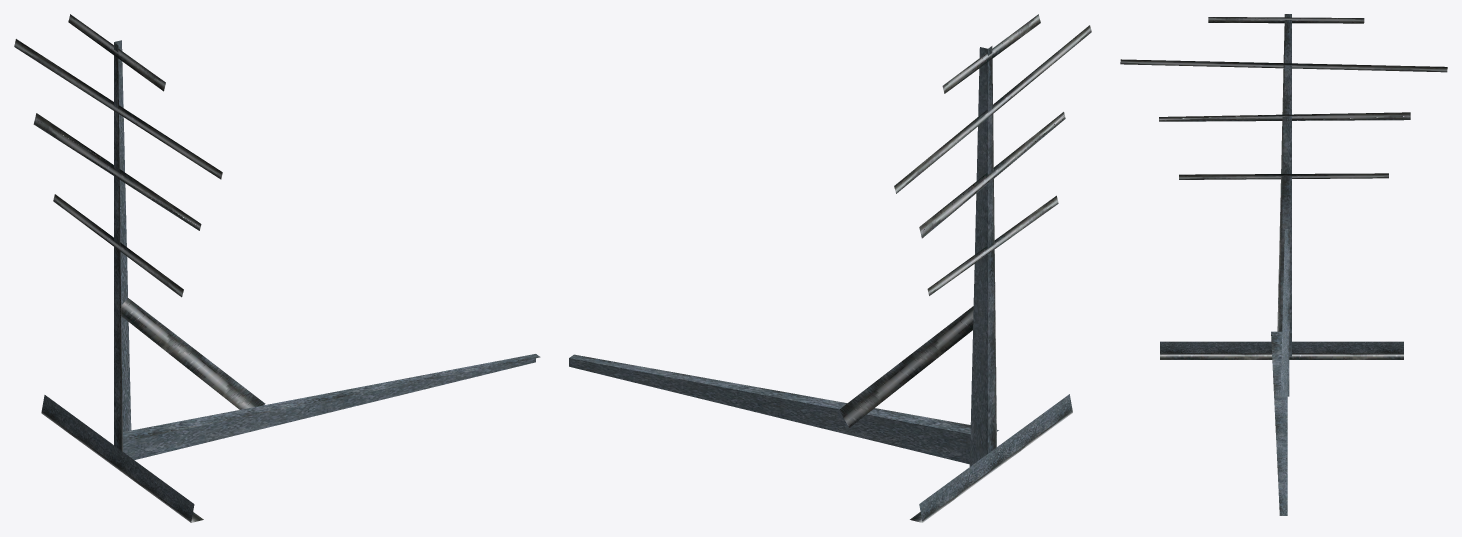
File: antnna02.glb
The picture shows the model from 3 angles, left to right: view 1: azimuth 30°, elevation 25°; view 2: azimuth 150°, elevation 25°; view 3: azimuth 270°, elevation 25°; orthographic projection. The views are drawn at different scales.
Visible parts, largest first — view 1: _antnna02; view 2: _antnna02; view 3: _antnna02.
Part boxes in pixels (left/top/right/bottom): _antnna02: left=14, top=14, right=540, bottom=522; _antnna02: left=569, top=14, right=1091, bottom=522; _antnna02: left=1120, top=14, right=1447, bottom=515.
Size of the model in its own units: 1.53 by 1.44 by 1.25.
1 material, 1 textured.
